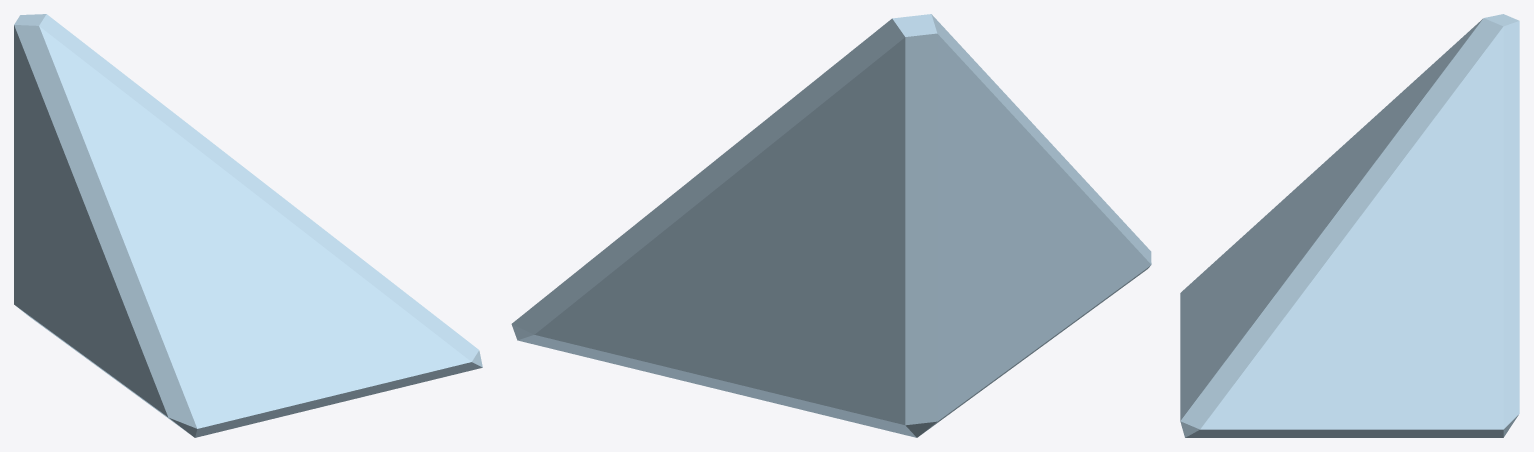
Rendered from R4B_CornerWedge_LOD1.glb.
3 views of the same model, side by side, from view 1: azimuth 30°, elevation 25°; view 2: azimuth 150°, elevation 25°; view 3: azimuth 270°, elevation 25° (orthographic). The views are drawn at different scales.
Visible parts, largest first — view 1: R4B_CornerWedge_LOD1; view 2: R4B_CornerWedge_LOD1; view 3: R4B_CornerWedge_LOD1.
Boxes of the visible parts, x1=… form: R4B_CornerWedge_LOD1: x1=14, y1=14, x2=482, y2=437; R4B_CornerWedge_LOD1: x1=511, y1=14, x2=1151, y2=437; R4B_CornerWedge_LOD1: x1=1180, y1=14, x2=1519, y2=437.
Bounding box in the file's own units: 0.503 × 0.4666 × 0.503.
